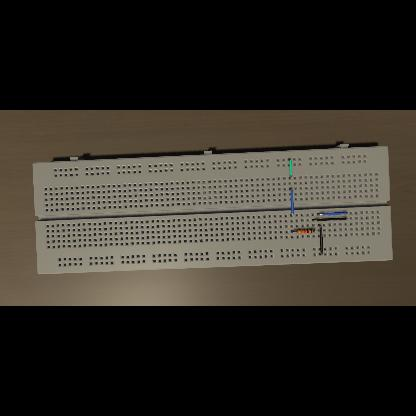breadboard: (33, 144, 393, 274)
resistor: (297, 230, 313, 235)
wire: (318, 225, 324, 255), (312, 218, 348, 222), (318, 212, 348, 216), (290, 188, 294, 216), (288, 159, 292, 179), (291, 232, 297, 233), (313, 230, 315, 232)
